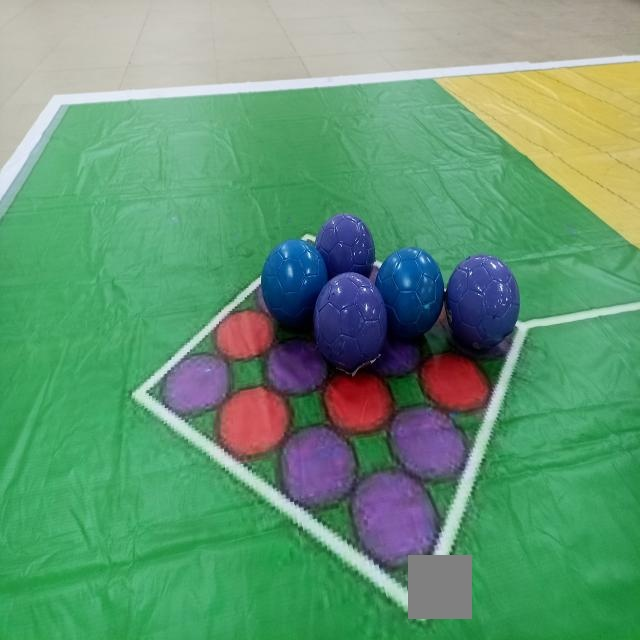blue_ball: (380, 246, 446, 341), (264, 233, 320, 320)
purple_ball: (447, 251, 525, 358), (315, 274, 388, 371), (318, 200, 384, 282)
